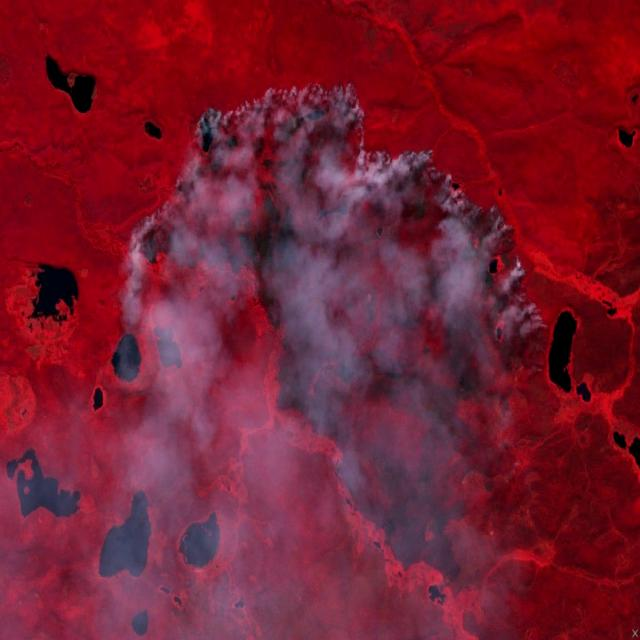fire: (120, 93, 550, 374)
